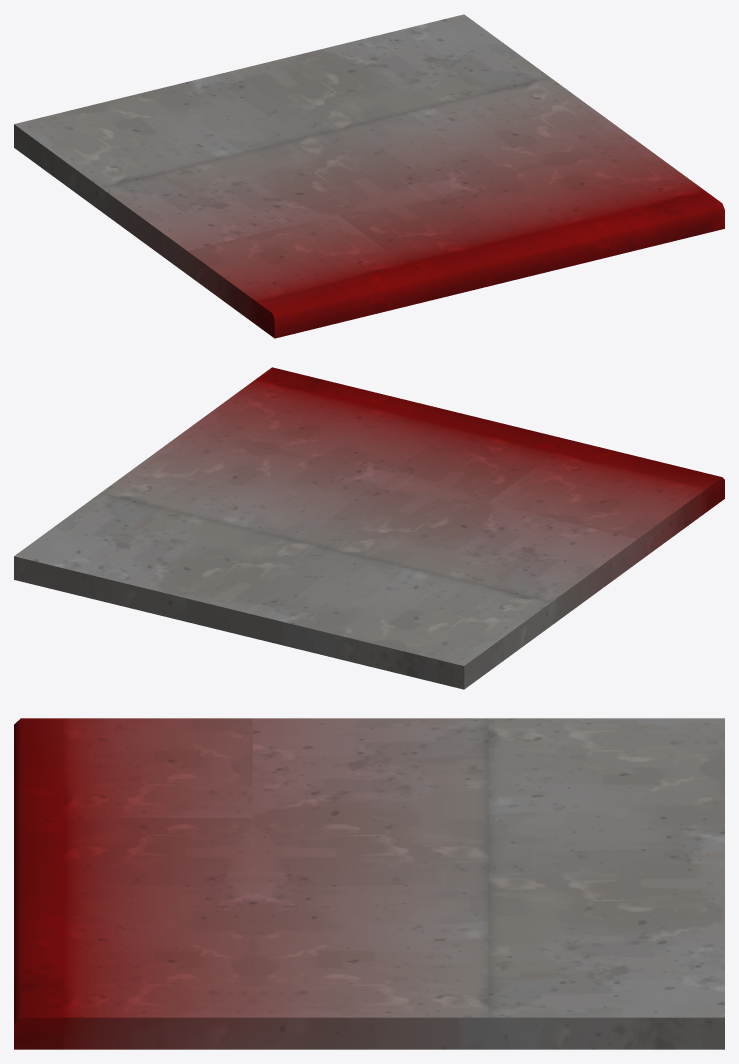
The model's file is sidewalk_straight_3m.glb.
3 renders of one model, top to bottom at view 1: azimuth 30°, elevation 25°; view 2: azimuth 150°, elevation 25°; view 3: azimuth 270°, elevation 25°, orthographic. The views are drawn at different scales.
Parts seen in each view (by area): view 1: Sidewalk_Straight_3m; view 2: Sidewalk_Straight_3m; view 3: Sidewalk_Straight_3m.
Part boxes in pixels (x1,y1,x2,y2): Sidewalk_Straight_3m: (14,14,724,338); Sidewalk_Straight_3m: (14,367,724,689); Sidewalk_Straight_3m: (14,718,724,1049).
Bounding box in the file's own units: 3 × 0.15 × 3.01.
1 material, 1 textured.
